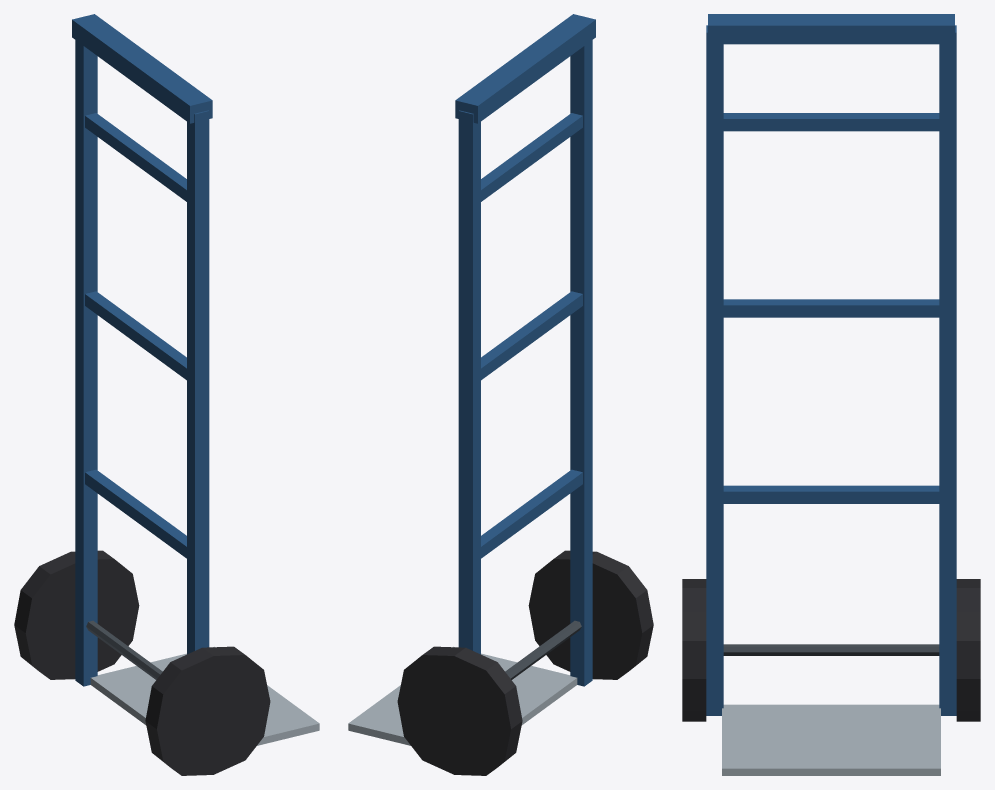
Rendered from GT_HandTruck_01.glb.
3 views of the same model, side by side, from view 1: azimuth 30°, elevation 25°; view 2: azimuth 150°, elevation 25°; view 3: azimuth 270°, elevation 25° (orthographic). The views are drawn at different scales.
Visible parts, largest first — view 1: GT_HandTruck_01; view 2: GT_HandTruck_01; view 3: GT_HandTruck_01.
Boxes of the visible parts, x1,y1,x2,y2 form: GT_HandTruck_01: (14, 14, 319, 775); GT_HandTruck_01: (348, 14, 653, 775); GT_HandTruck_01: (682, 14, 980, 775).
Size of the model in its own units: 0.32 by 1.12 by 0.435.
1 material, 1 textured.
